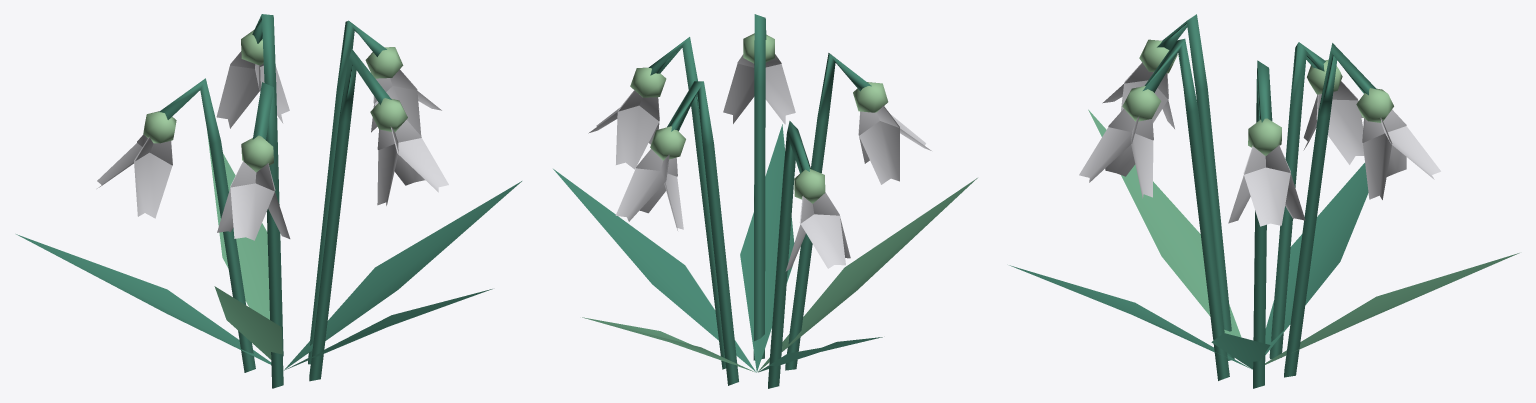
Rendered from snowdrop.glb.
3 views of the same model, side by side, from view 1: azimuth 30°, elevation 25°; view 2: azimuth 150°, elevation 25°; view 3: azimuth 270°, elevation 25° (orthographic). The views are drawn at different scales.
Parts seen in each view (by area): view 1: snowdrop; view 2: snowdrop; view 3: snowdrop.
Boxes of the visible parts, x1=… form: snowdrop: x1=16, y1=14, x2=521, y2=388; snowdrop: x1=553, y1=14, x2=977, y2=388; snowdrop: x1=1009, y1=14, x2=1519, y2=388.
Size of what is drawn, in the model's own units: 0.2897 by 0.22 by 0.2931.
